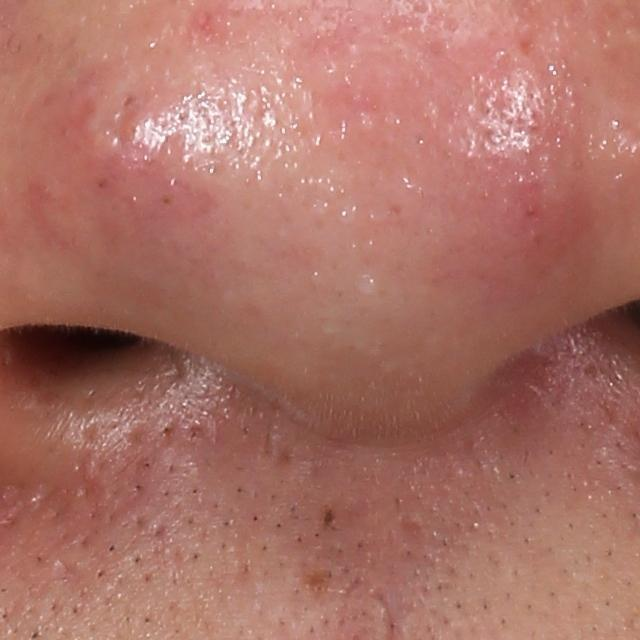atrophic_scar: (372, 588, 407, 637), (399, 514, 428, 544)
nevus: (323, 505, 336, 530)
